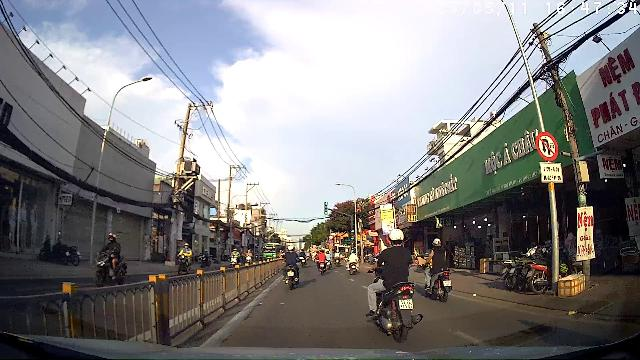124b-cam-oto-quay-dau-xe: (535, 131, 559, 161)
